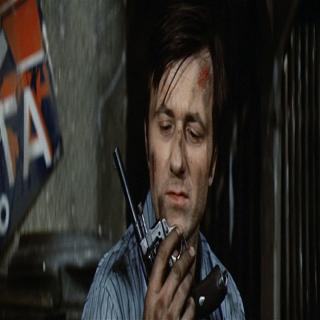gun: (110, 136, 230, 314)
